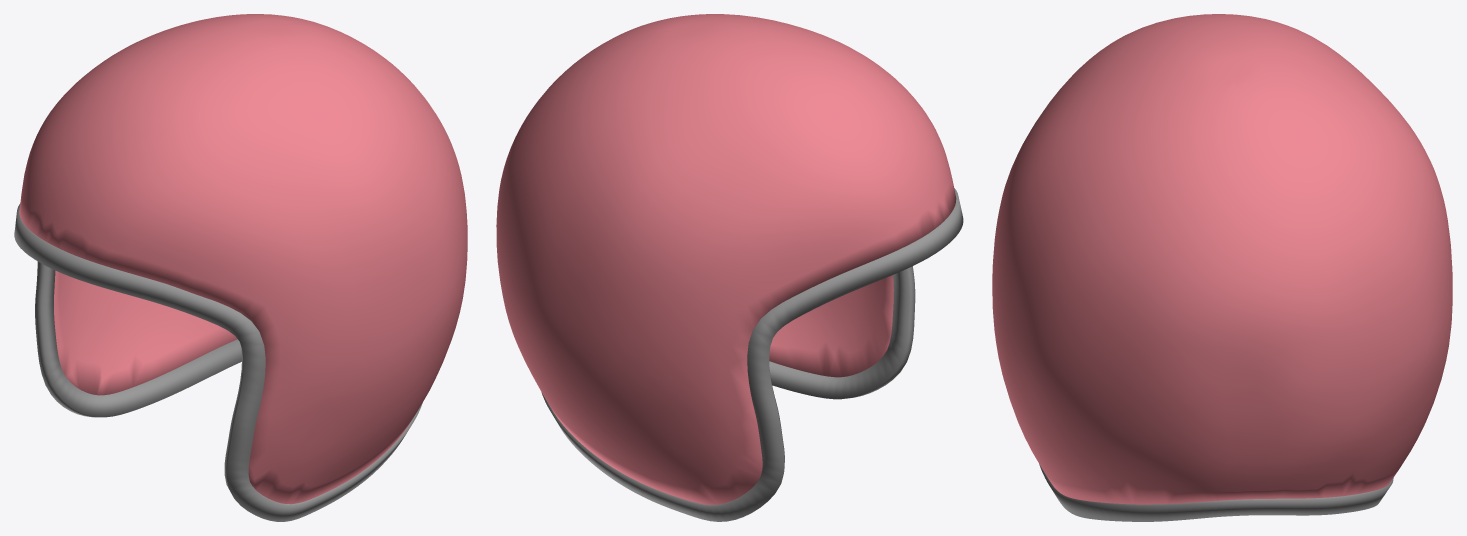
The model's file is Moto_HelmetUVDone.fbx.
3 views of the same model, side by side, from view 1: azimuth 30°, elevation 25°; view 2: azimuth 150°, elevation 25°; view 3: azimuth 270°, elevation 25° (orthographic). The views are drawn at different scales.
Parts seen in each view (by area): view 1: Helmet_Bike; view 2: Helmet_Bike; view 3: Helmet_Bike.
Part boxes in pixels (bbox=[...]): Helmet_Bike: bbox=[14, 14, 467, 521]; Helmet_Bike: bbox=[496, 14, 963, 521]; Helmet_Bike: bbox=[992, 14, 1452, 521].
Size of the model in its own units: 40.6 by 39.45 by 36.27.
